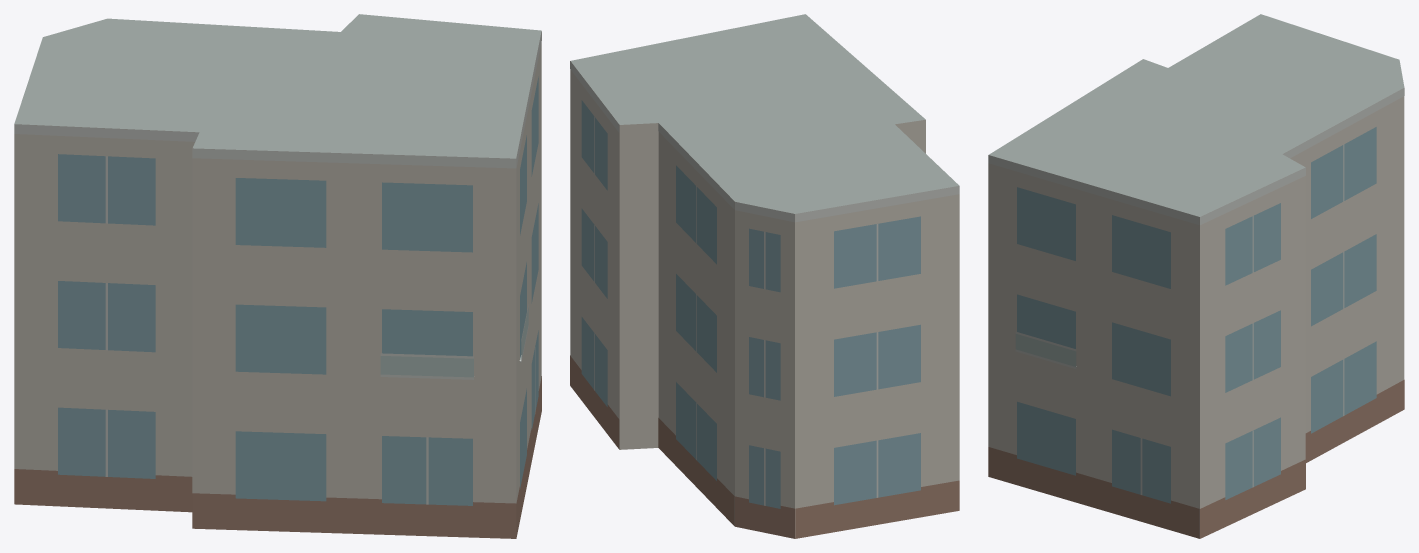
The model's file is survey-upis-32492471.glb.
3 renders of one model, left to right at view 1: azimuth 30°, elevation 25°; view 2: azimuth 150°, elevation 25°; view 3: azimuth 270°, elevation 25°, orthographic. The views are drawn at different scales.
Parts seen in each view (by area): view 1: survey-upis-32492471.tmp; view 2: survey-upis-32492471.tmp; view 3: survey-upis-32492471.tmp.
Boxes of the visible parts, bbox=[...] form: survey-upis-32492471.tmp: bbox=[14, 14, 541, 538]; survey-upis-32492471.tmp: bbox=[570, 14, 959, 538]; survey-upis-32492471.tmp: bbox=[988, 14, 1404, 538].
Size of the model in its own units: 12.79 by 9.45 by 11.08.
